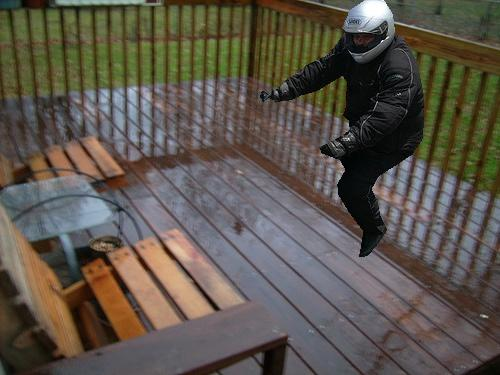tampered: (261, 1, 424, 257)
